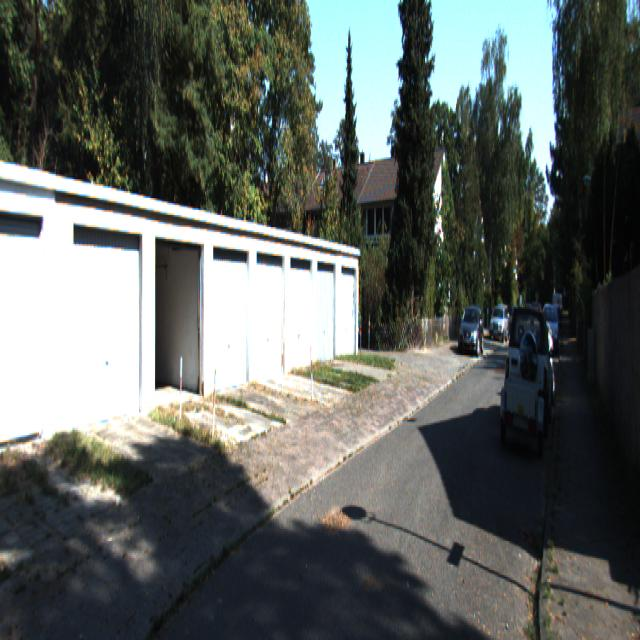Car: (505, 298, 553, 430), (459, 303, 484, 355)
DontCare: (490, 304, 508, 345)
Misc: (502, 370, 541, 454)
